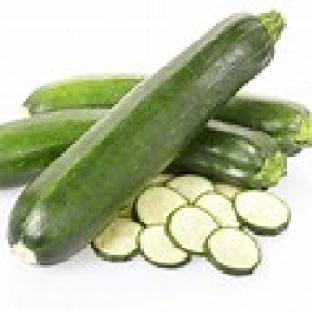Zucchini: (8, 13, 283, 265), (0, 110, 106, 187), (0, 110, 103, 187), (216, 97, 311, 156), (24, 76, 143, 114), (206, 227, 260, 275), (235, 190, 291, 234), (167, 206, 218, 254), (91, 219, 143, 260), (138, 227, 189, 267), (136, 188, 187, 226), (195, 193, 241, 226), (167, 175, 213, 202), (216, 182, 241, 200), (146, 172, 174, 187)
